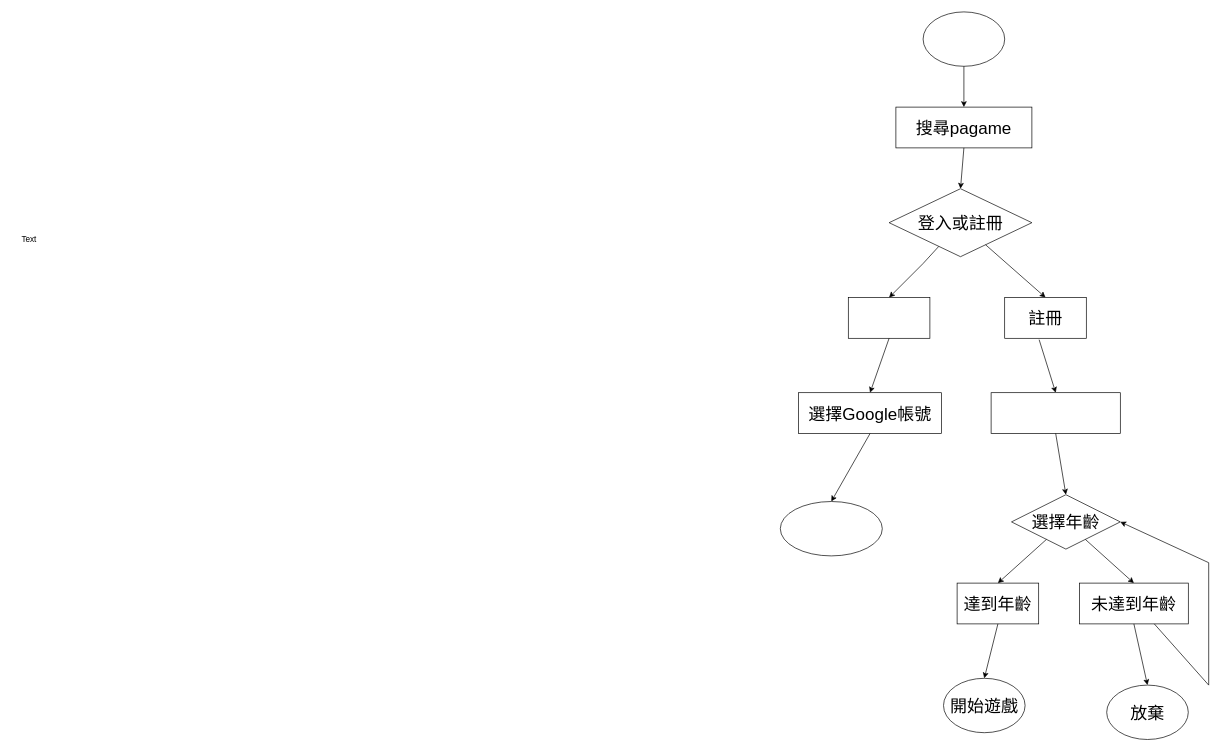
Some shapes in this 1226 by 751 pixel diagram are drawn without their labels. Each missing label, with the box of its shape:
創建帳號: (922, 11, 1005, 66)
建立帳號: (990, 392, 1120, 434)
登入: (848, 297, 930, 338)
開始遊玩: (780, 501, 882, 556)
